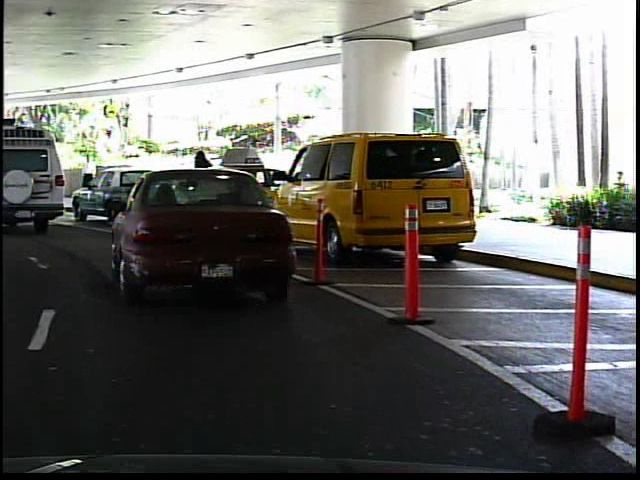person: (191, 144, 222, 210), (227, 141, 254, 210), (79, 148, 101, 202), (14, 157, 33, 196)
